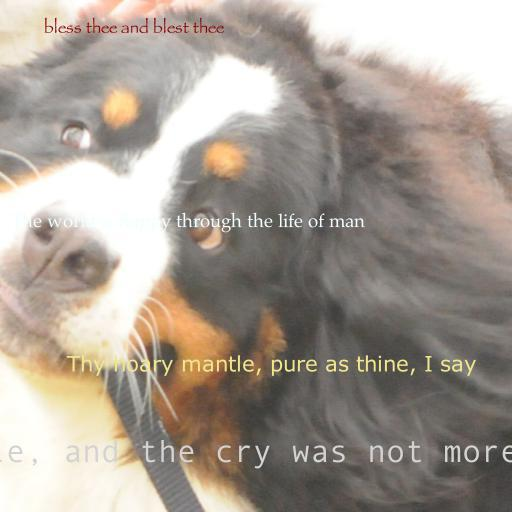Andale Mono: (0, 439, 512, 469)
Palatino: (11, 212, 365, 233)
Papyrus: (44, 17, 224, 34)
Verdana: (67, 355, 477, 376)
